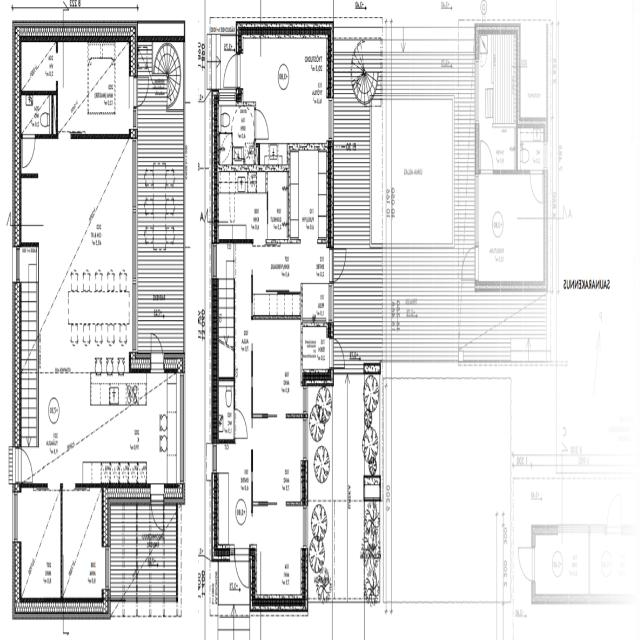door: (221, 52, 243, 89), (13, 448, 36, 483), (150, 320, 165, 370), (151, 486, 165, 538), (516, 545, 536, 581), (234, 545, 248, 594), (329, 247, 348, 282), (461, 246, 479, 280), (329, 338, 348, 370), (608, 492, 622, 534), (133, 76, 151, 108), (22, 133, 36, 169), (254, 109, 269, 139), (481, 140, 493, 174), (530, 169, 542, 202), (234, 410, 246, 437)
